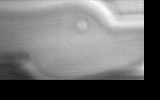cell: (73, 18, 90, 35)
